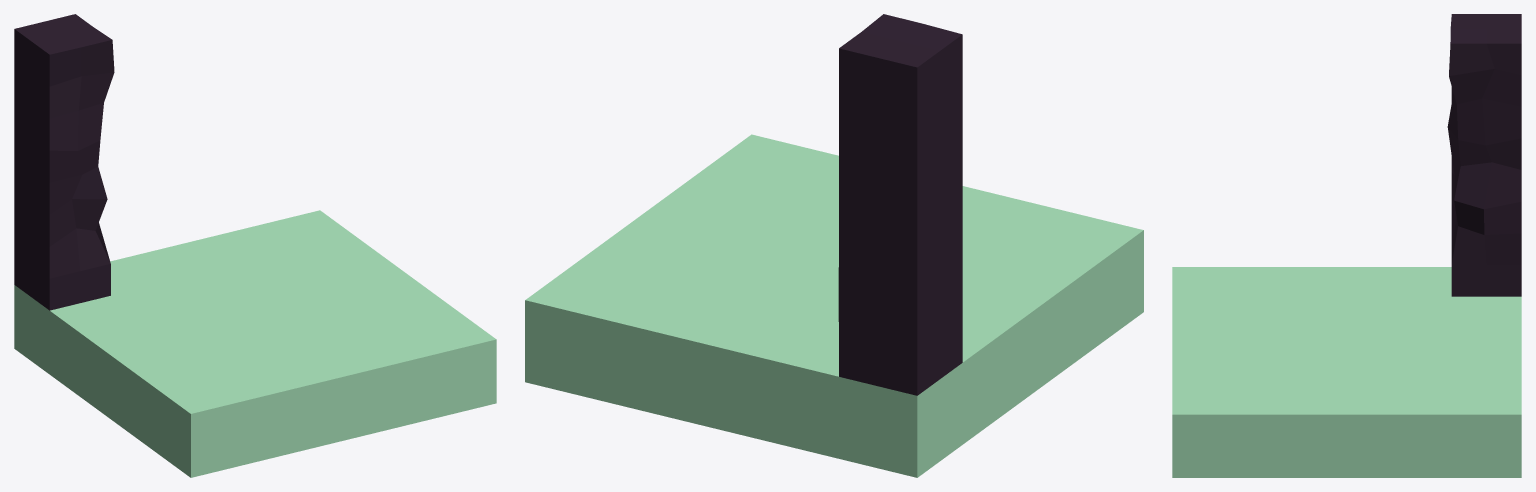
Rendered from CliffCorner.fbx.
3 views of the same model, side by side, from view 1: azimuth 30°, elevation 25°; view 2: azimuth 150°, elevation 25°; view 3: azimuth 270°, elevation 25° (orthographic). The views are drawn at different scales.
Visible parts, largest first — view 1: CliffCorner; view 2: CliffCorner; view 3: CliffCorner.
Boxes of the visible parts, <box> form: CliffCorner: <box>14,14,496,477</box>; CliffCorner: <box>525,14,1143,477</box>; CliffCorner: <box>1172,14,1521,477</box>.
Bounding box in the file's own units: 200 × 200 × 200.
